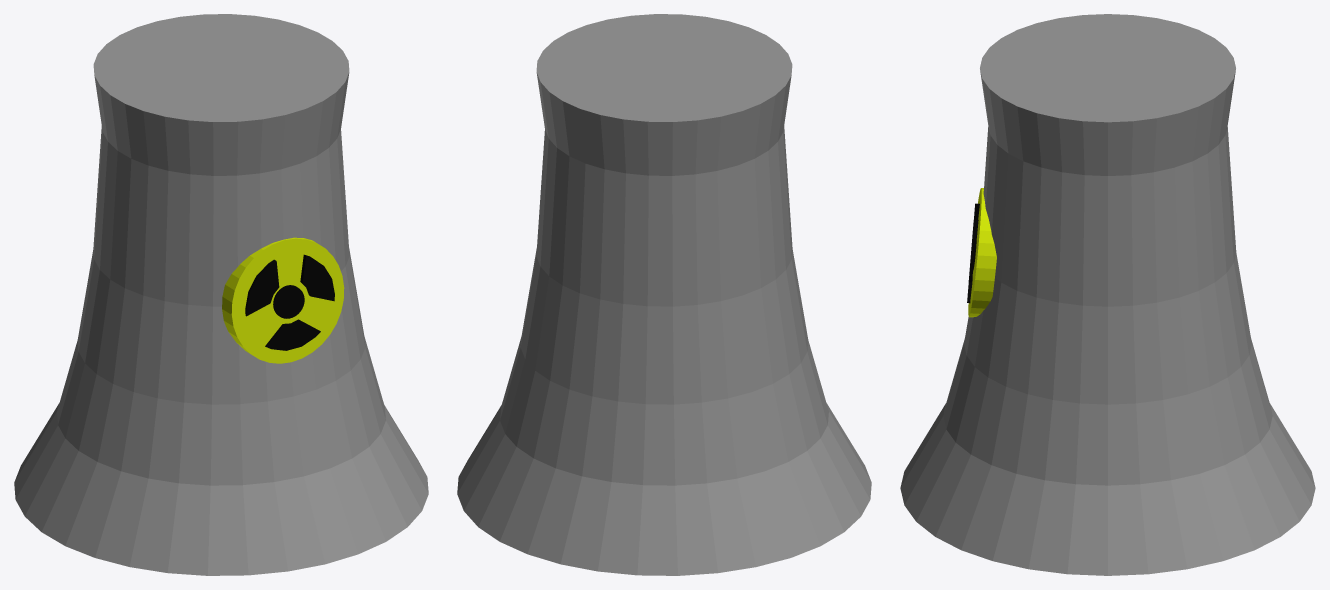
Rendered from UsinaNuclear.fbx.
3 renders of one model, left to right at view 1: azimuth 30°, elevation 25°; view 2: azimuth 150°, elevation 25°; view 3: azimuth 270°, elevation 25°, orthographic.
Visible parts, largest first — view 1: Usina, BaseSimbolo, Simbolo; view 2: Usina; view 3: Usina, BaseSimbolo.
Boxes of the visible parts, bbox=[...] form: Usina: bbox=[14, 14, 428, 575]; BaseSimbolo: bbox=[222, 237, 344, 363]; Simbolo: bbox=[245, 254, 334, 350]; Usina: bbox=[457, 14, 871, 575]; Usina: bbox=[900, 14, 1315, 575]; BaseSimbolo: bbox=[968, 188, 996, 317].
Bounding box in the file's own units: 800 × 893 × 800.
